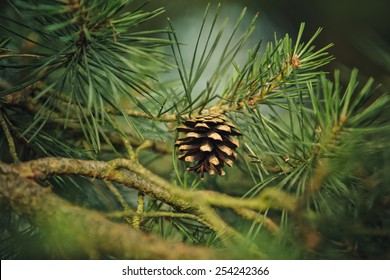Pc: (179, 112, 240, 177)
